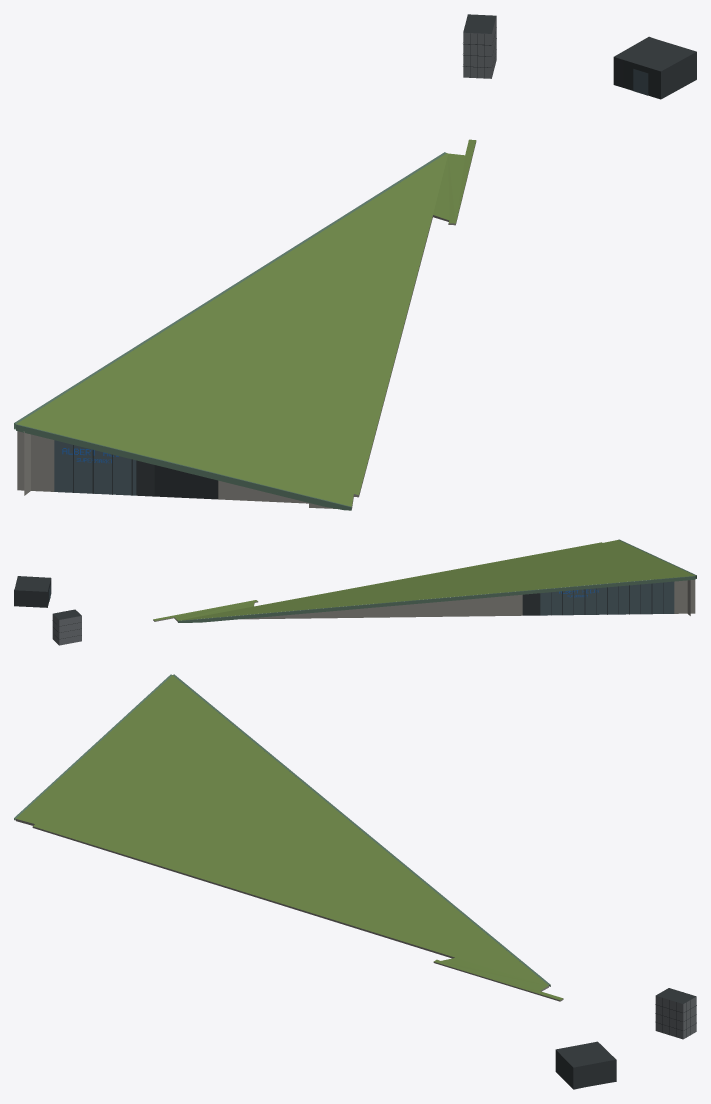
Rendered from albert-heijn-museumplein.glb.
3 renders of one model, top to bottom at view 1: azimuth 30°, elevation 25°; view 2: azimuth 150°, elevation 25°; view 3: azimuth 270°, elevation 25°, orthographic. The views are drawn at different scales.
Parts seen in each view (by area): view 1: albert-heijn-museumplein; view 2: albert-heijn-museumplein; view 3: albert-heijn-museumplein.
Part boxes in pixels (bbox=[...]): albert-heijn-museumplein: bbox=[14, 14, 696, 510]; albert-heijn-museumplein: bbox=[14, 539, 696, 645]; albert-heijn-museumplein: bbox=[14, 674, 696, 1089].
Bounding box in the file's own units: 105 × 7.54 × 84.01.
